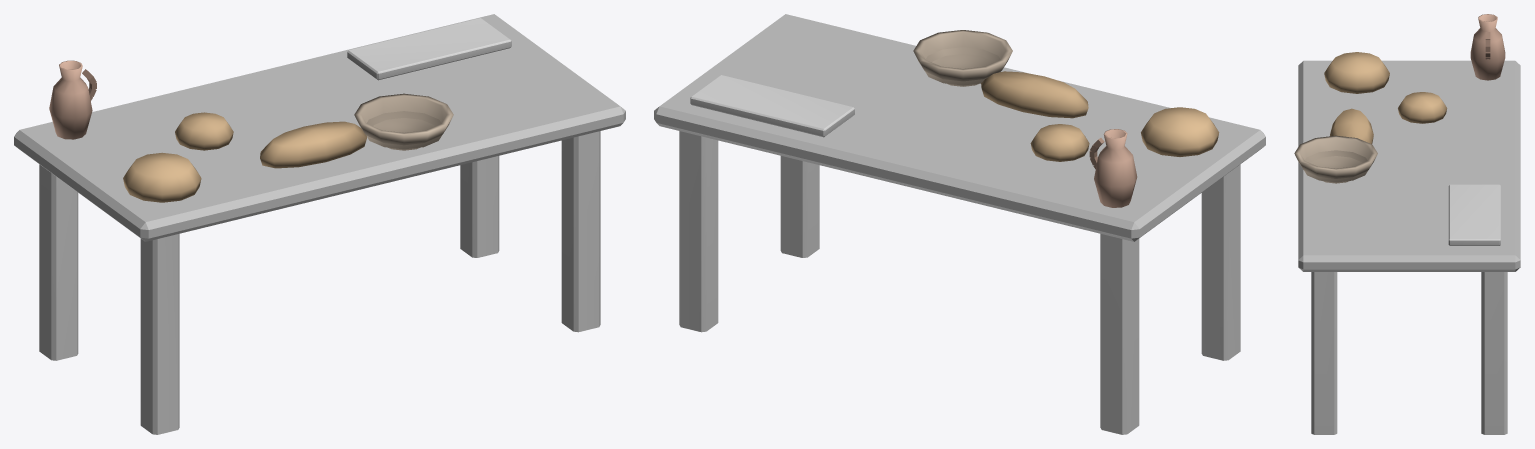
Rendered from kitchen_table.glb.
The picture shows the model from 3 angles, left to right: view 1: azimuth 30°, elevation 25°; view 2: azimuth 150°, elevation 25°; view 3: azimuth 270°, elevation 25°; orthographic projection. The views are drawn at different scales.
Parts seen in each view (by area): view 1: bowl; view 2: bowl; view 3: bowl.
Boxes of the visible parts, x1=… form: bowl: x1=14, y1=14, x2=625, y2=434; bowl: x1=654, y1=14, x2=1265, y2=434; bowl: x1=1294, y1=14, x2=1520, y2=434.
Size of the model in its own units: 1.8 by 1.02 by 0.865.
